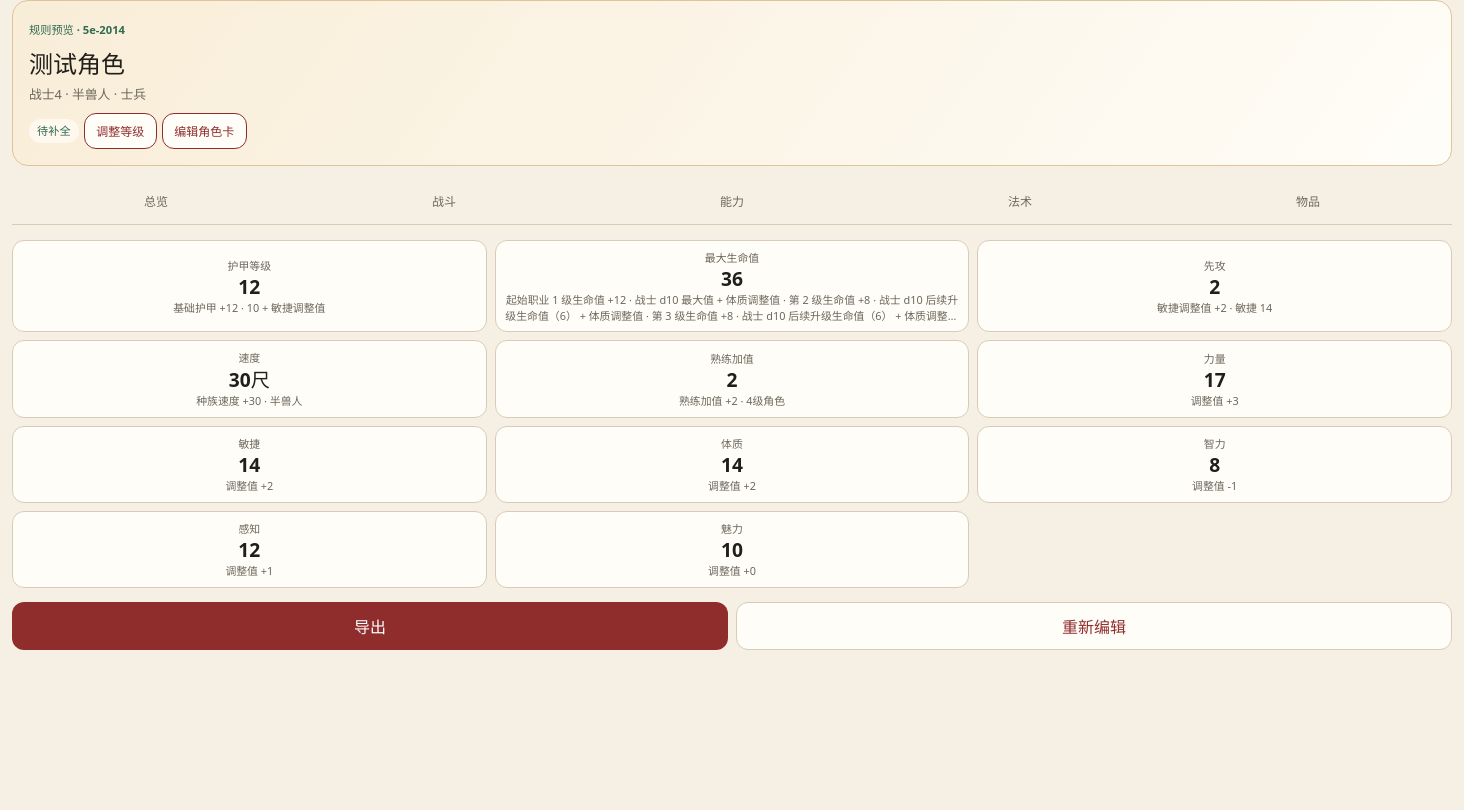
CharacterSheetStep 头部按钮布局（编辑模式收纳） › 编辑模式开启后头部收敛为调整等级/完成编辑/更多，不直接显示次要操作
Expected: the text "更多" is not shown
Click the button with class "character-sheet__level-button" showing "编辑角色卡": (204, 131) [162,113,247,149]
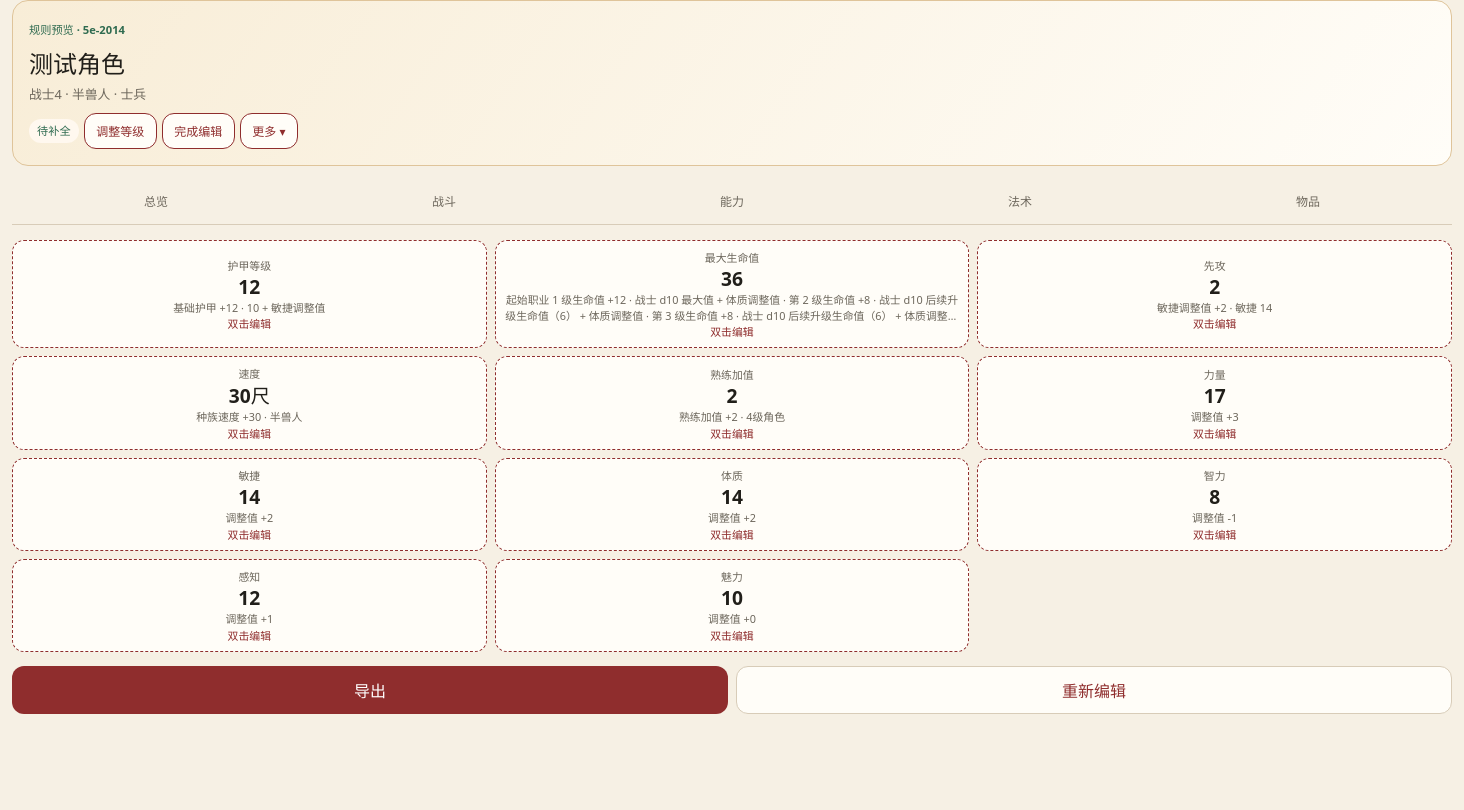
Expected: the text "完成编辑" is shown, [162,113,235,149]
Expected: the text "更多" is shown, [240,113,298,149]
